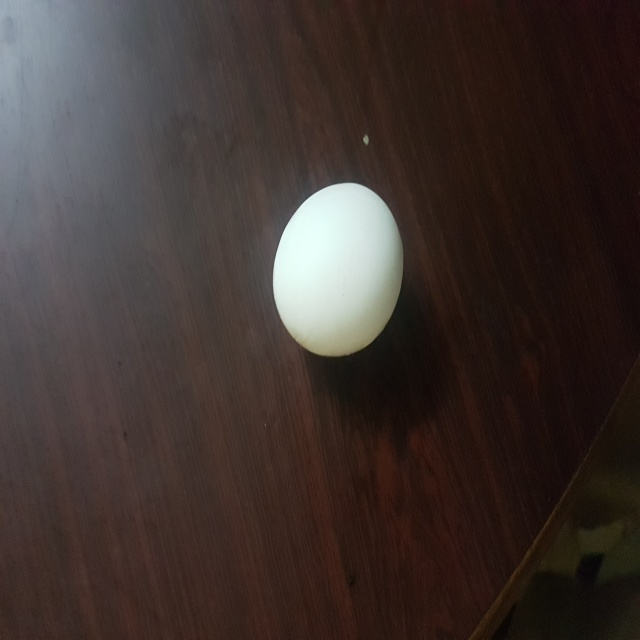eggs: (273, 181, 404, 358)
